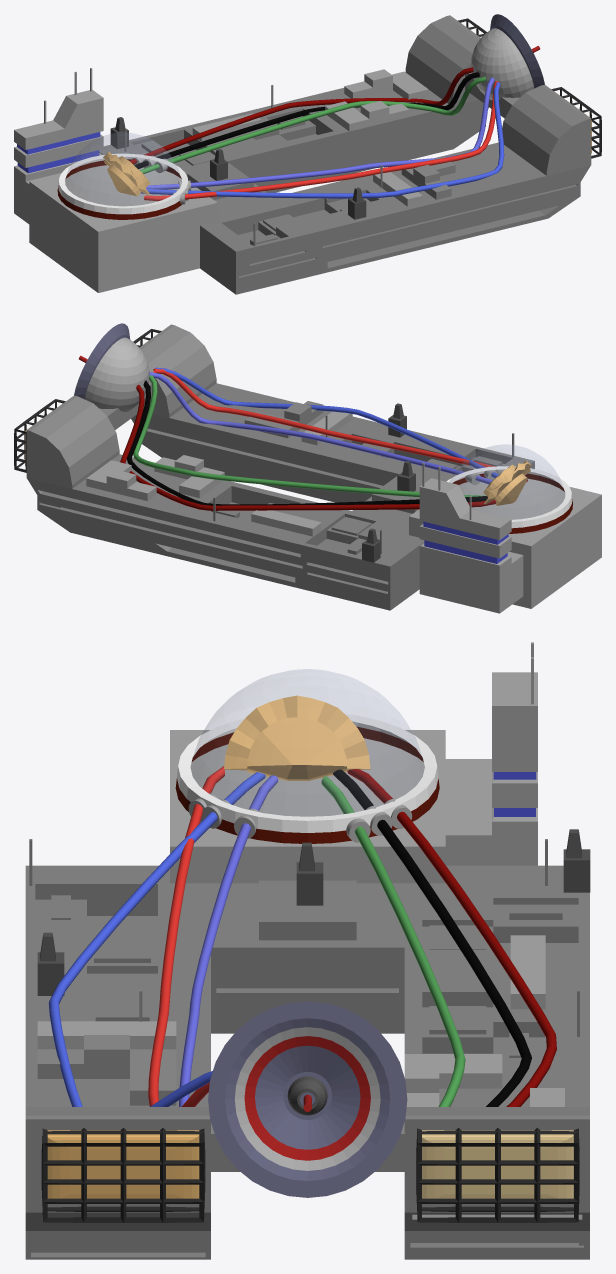
File: pierogi-anihilator.fbx
3 renders of one model, top to bottom at view 1: azimuth 30°, elevation 25°; view 2: azimuth 150°, elevation 25°; view 3: azimuth 270°, elevation 25°, orthographic. The views are drawn at different scales.
Visible parts, largest first — view 1: Pierogi-Destroyer, Pieróg-anim; view 2: Pierogi-Destroyer, Pieróg-anim; view 3: Pierogi-Destroyer, Pieróg-anim.
Part boxes in pixels (x1=…): Pierogi-Destroyer: x1=14, y1=14, x2=601, y2=294; Pieróg-anim: x1=103, y1=151, x2=150, y2=196; Pierogi-Destroyer: x1=14, y1=323, x2=601, y2=613; Pieróg-anim: x1=483, y1=460, x2=531, y2=505; Pierogi-Destroyer: x1=25, y1=642, x2=590, y2=1259; Pieróg-anim: x1=224, y1=695, x2=370, y2=780.
Size of the model in its own units: 21.38 by 6.09 by 10.99.
